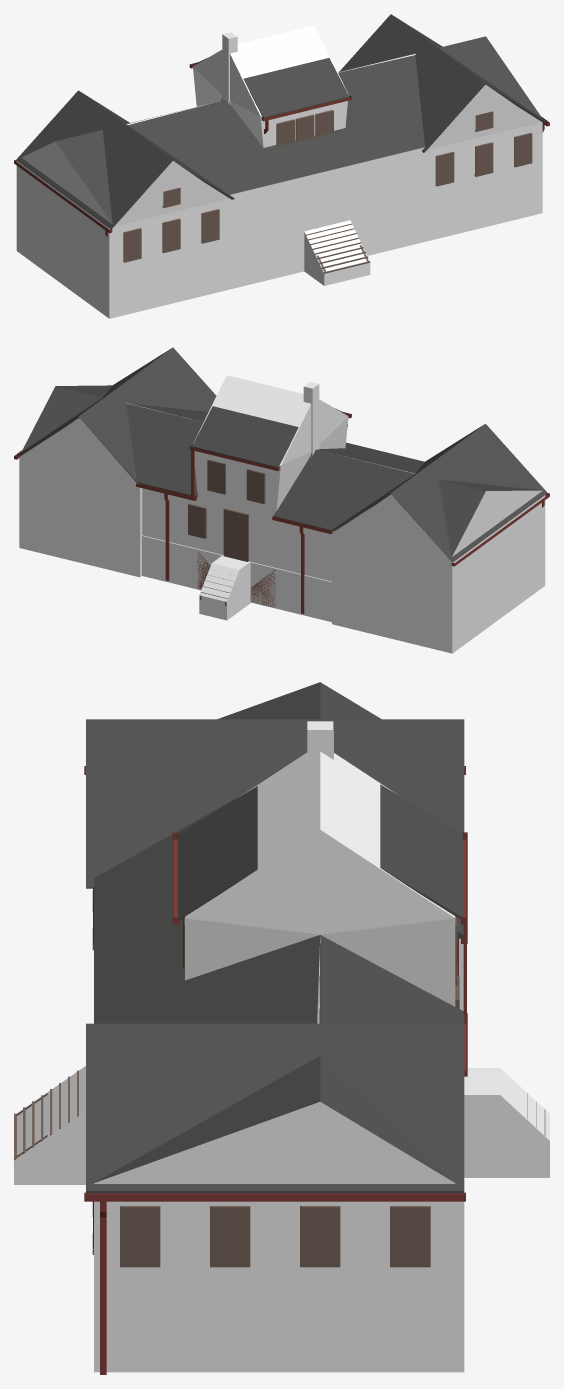
File: eca_bld_house_02_a.dae
The picture shows the model from 3 angles, top to bottom: view 1: azimuth 30°, elevation 25°; view 2: azimuth 150°, elevation 25°; view 3: azimuth 270°, elevation 25°; orthographic projection. The views are drawn at different scales.
Parts seen in each view (by area): view 1: eca_bld_house_02_a20, eca_bld_house_02_a2000, Colmesh-1, eca_bld_house_02_a400; view 2: eca_bld_house_02_a20, eca_bld_house_02_a2000, eca_bld_house_02_a400, Colmesh-1; view 3: eca_bld_house_02_a20, eca_bld_house_02_a2000, Colmesh-1, eca_bld_house_02_a400.
Part boxes in pixels (bbox=[...]): eca_bld_house_02_a20: bbox=[16, 15, 542, 318]; eca_bld_house_02_a2000: bbox=[14, 14, 549, 317]; Colmesh-1: bbox=[112, 25, 542, 308]; eca_bld_house_02_a400: bbox=[14, 58, 549, 262]; eca_bld_house_02_a20: bbox=[19, 350, 545, 653]; eca_bld_house_02_a2000: bbox=[14, 347, 549, 622]; eca_bld_house_02_a400: bbox=[14, 387, 549, 607]; Colmesh-1: bbox=[69, 375, 414, 620]; eca_bld_house_02_a20: bbox=[94, 682, 464, 1372]; eca_bld_house_02_a2000: bbox=[14, 719, 545, 1374]; Colmesh-1: bbox=[14, 721, 549, 1184]; eca_bld_house_02_a400: bbox=[86, 723, 467, 1267].
Size of the model in its own units: 22.55 by 11.9 by 9.77.
